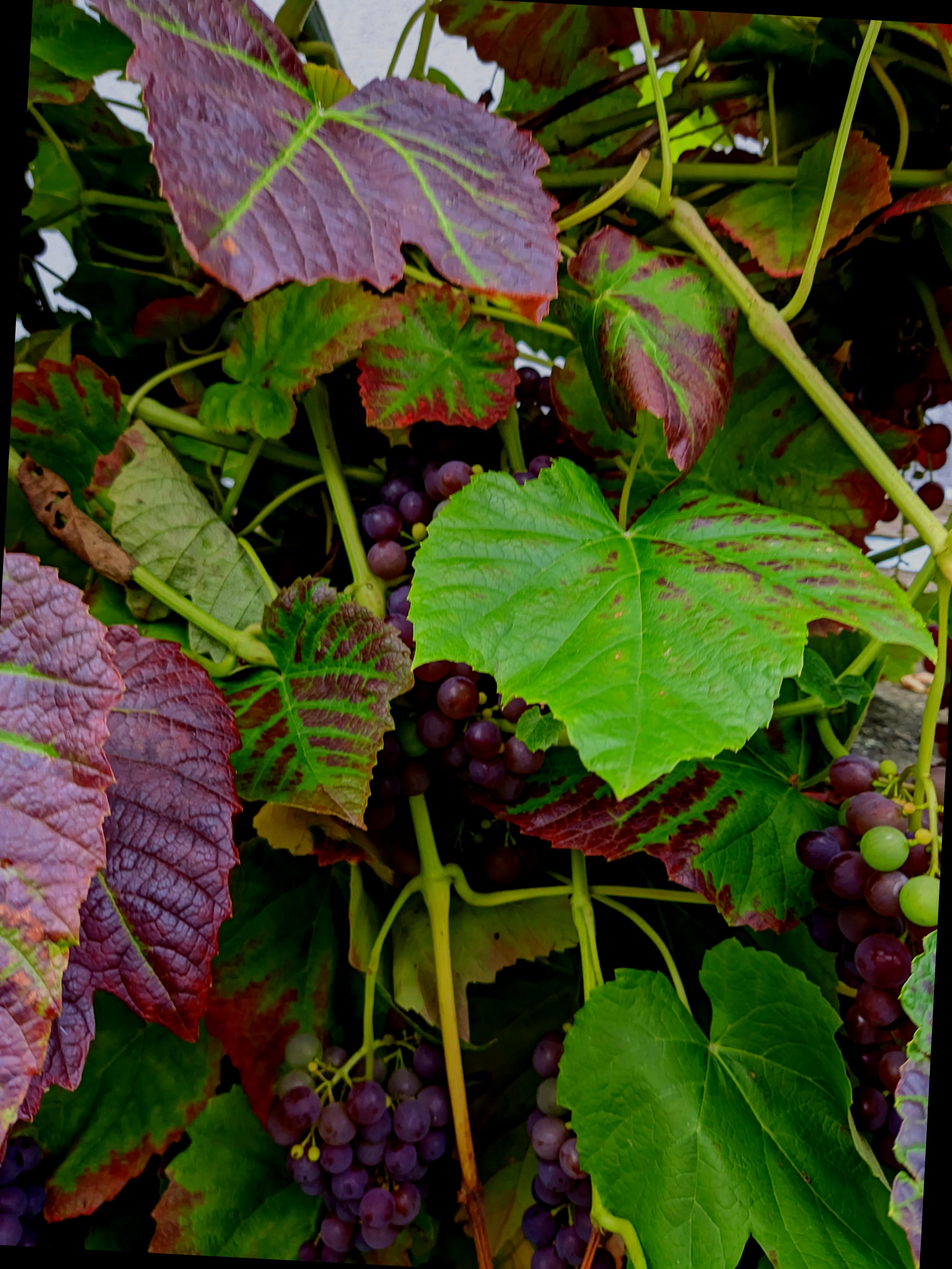Grape Unripe: (376, 398, 595, 869), (811, 713, 952, 1139), (288, 966, 497, 1242), (325, 333, 628, 456), (836, 205, 952, 502), (549, 1009, 663, 1254), (0, 1112, 84, 1224)
